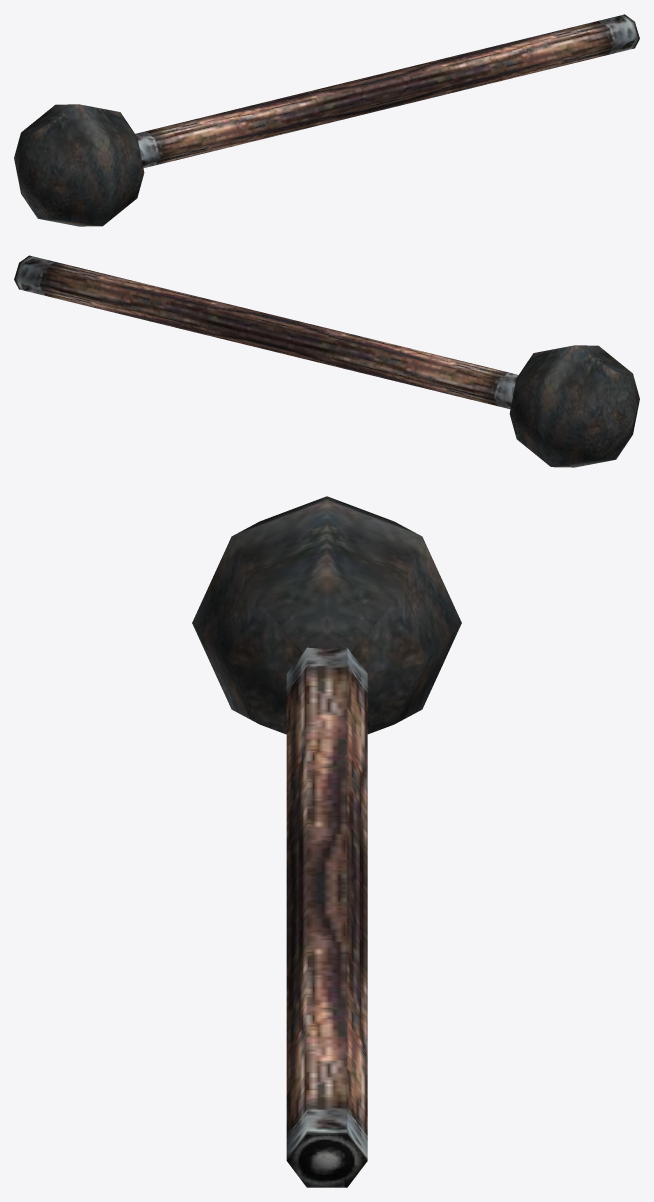
The model's file is ITMW_008_1H_MACE_LIGHT_01.glb.
3 renders of one model, top to bottom at view 1: azimuth 30°, elevation 25°; view 2: azimuth 150°, elevation 25°; view 3: azimuth 270°, elevation 25°, orthographic. The views are drawn at different scales.
Visible parts, largest first — view 1: Mesh; view 2: Mesh; view 3: Mesh.
Part boxes in pixels (x1,y1,x2,y2): Mesh: (14, 14, 639, 226); Mesh: (14, 255, 639, 467); Mesh: (192, 496, 461, 1187).
Size of the model in its own units: 0.8483 by 0.1628 by 0.1628.
Materials: 2 (2 with a texture image).
